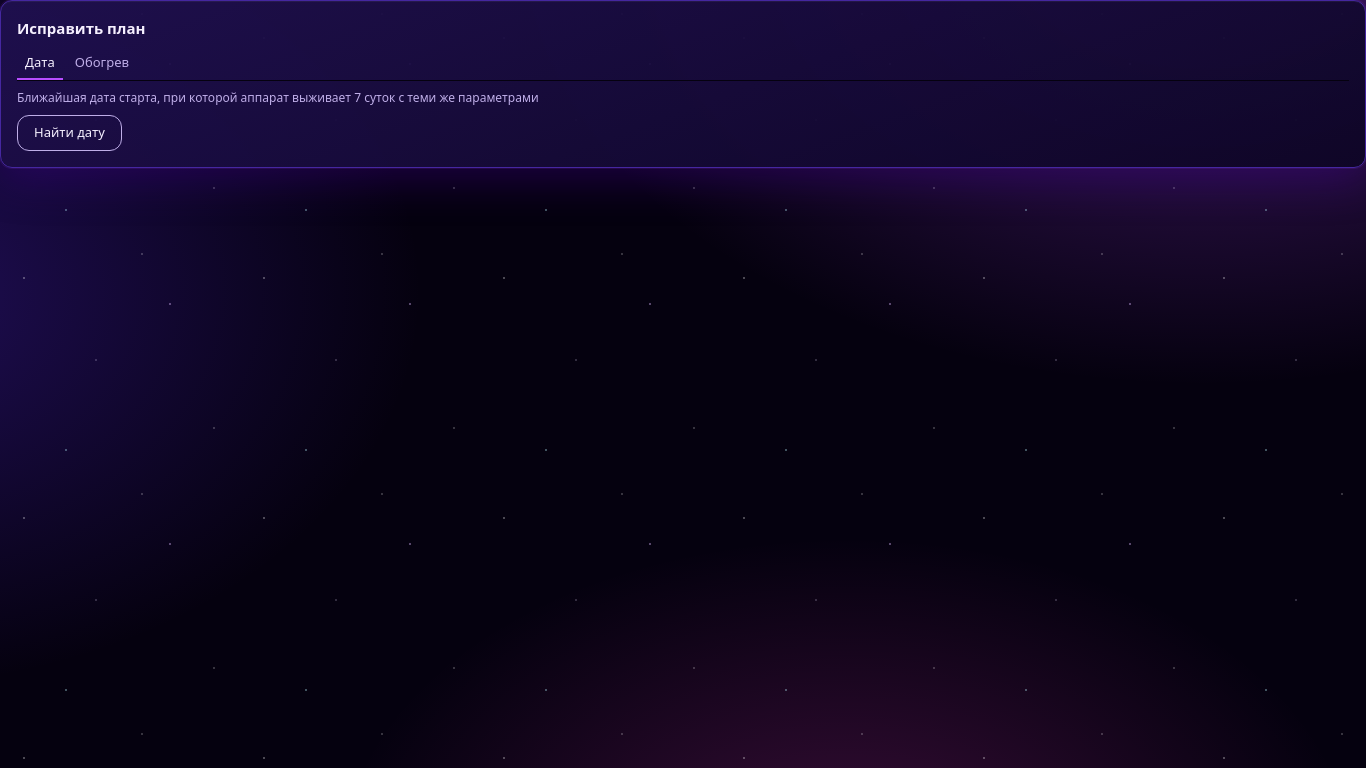
it: heater tab › says heating costs nothing without shadow
The image size is (1366, 768).
Click the tab "Обогрев" at {"x": 102, "y": 64}, box [67,48,137,80]
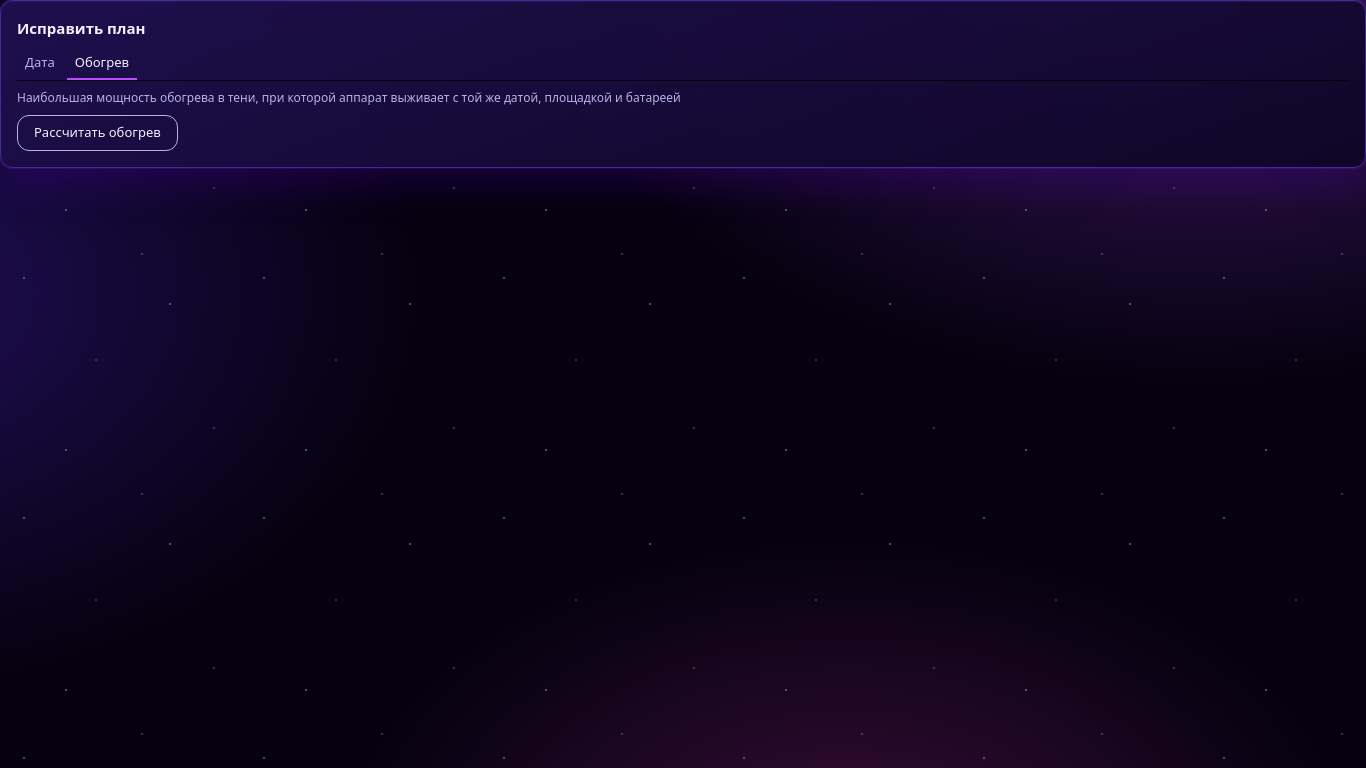
Click the button "Рассчитать обогрев" at {"x": 97, "y": 132}, box [17,114,178,150]
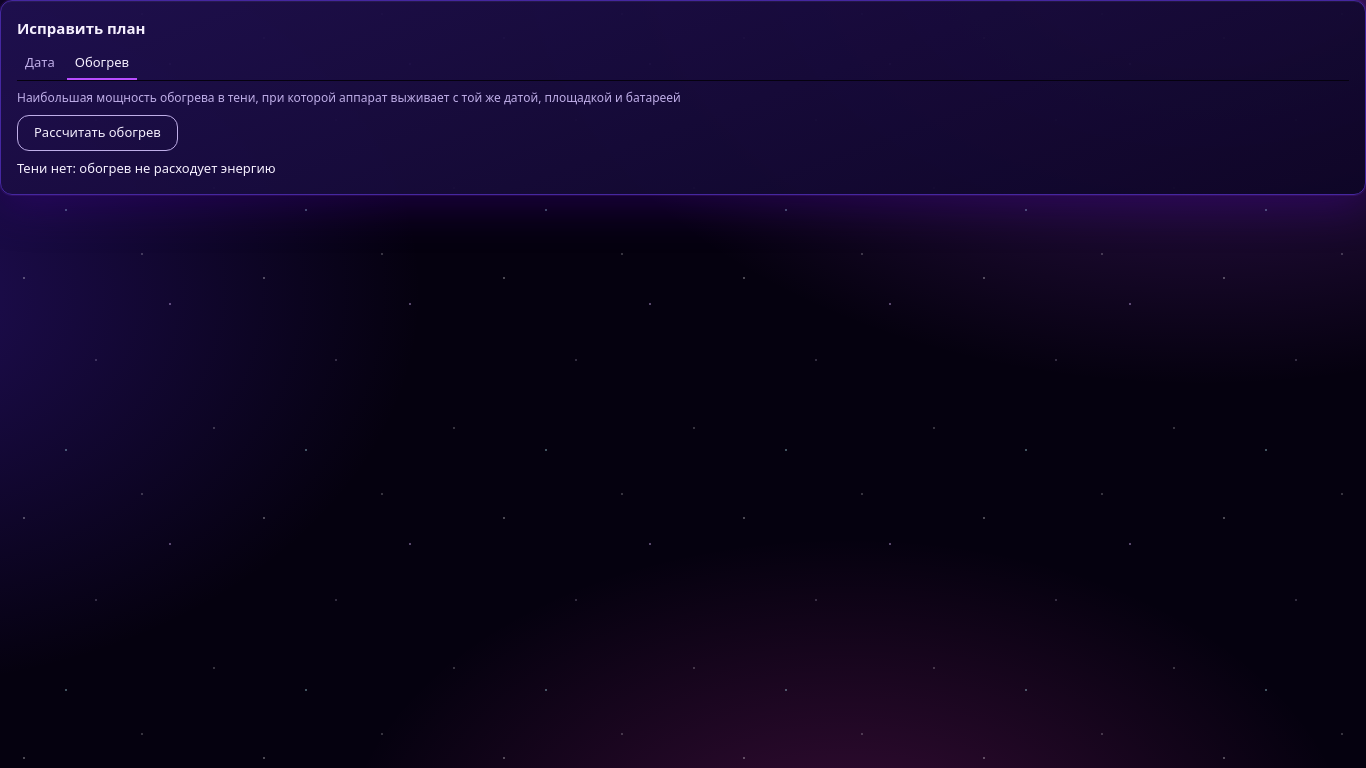
Result: the message reads "Тени нет: обогрев не расходует энергию" at [17,158,276,176]
